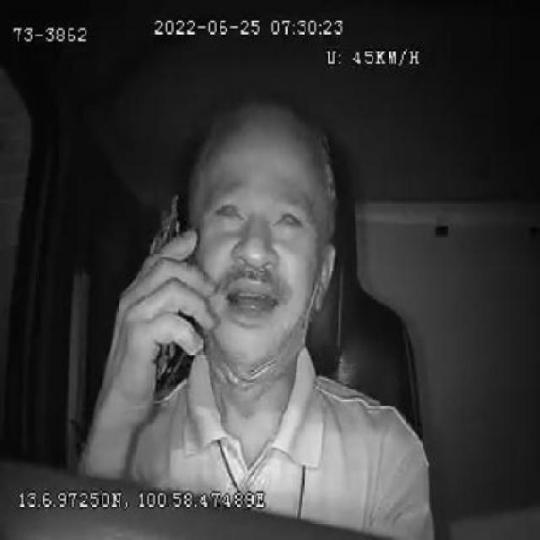phone: (145, 192, 198, 392)
